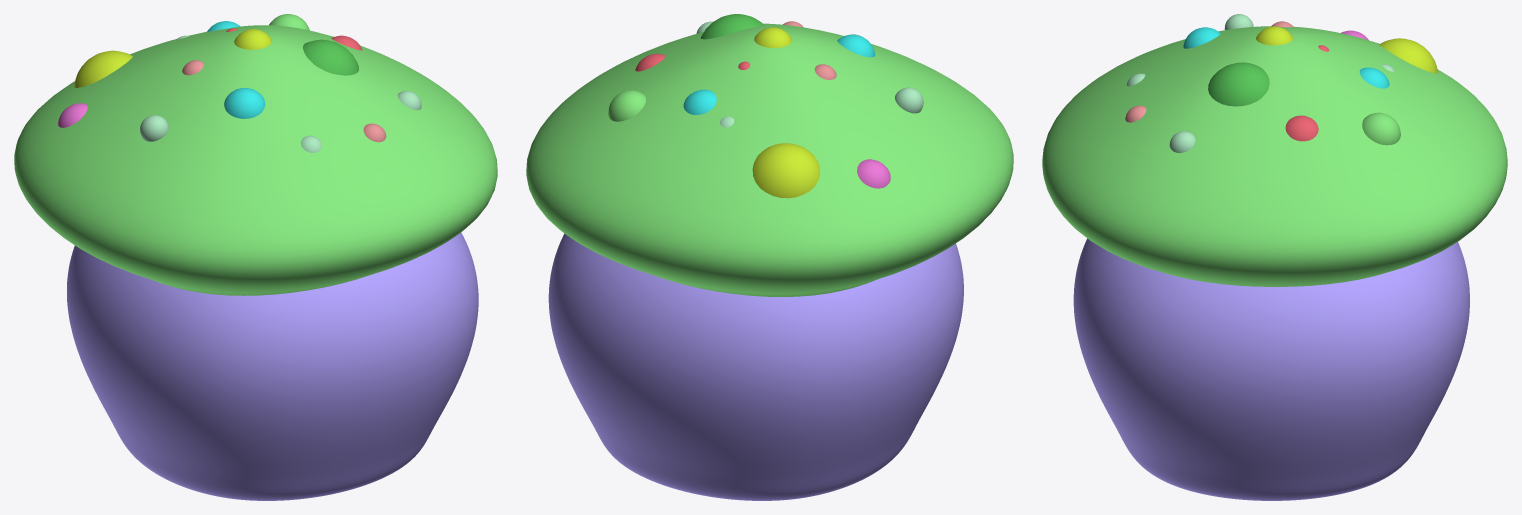
Rendered from mushroom.fbx.
3 renders of one model, left to right at view 1: azimuth 30°, elevation 25°; view 2: azimuth 150°, elevation 25°; view 3: azimuth 270°, elevation 25°, orthographic. The views are drawn at different scales.
Parts seen in each view (by area): view 1: Cube.001, Cube, Sphere.004, Sphere.003, Sphere.002, Sphere.010, Sphere.013; view 2: Cube.001, Cube, Sphere.003, Sphere.004, Sphere, Sphere.006, Sphere.014, Sphere.013, Sphere.010, Sphere.002; view 3: Cube.001, Cube, Sphere.004, Sphere.003, Sphere, Sphere.005, Sphere.013, Sphere.002.
Boxes of the visible parts, box(x1,y1,x2,y2) form: Cube.001: box(14, 25, 497, 295); Cube: box(67, 232, 478, 500); Sphere.004: box(303, 39, 358, 75); Sphere.003: box(74, 50, 132, 87); Sphere.002: box(224, 88, 265, 118); Sphere.010: box(140, 115, 168, 141); Sphere.013: box(234, 29, 271, 49); Cube.001: box(526, 23, 1013, 296); Cube: box(548, 233, 963, 500); Sphere.003: box(752, 143, 820, 198); Sphere.004: box(701, 14, 763, 39); Sphere: box(608, 90, 645, 121); Sphere.006: box(857, 159, 890, 188); Sphere.014: box(683, 89, 716, 114); Sphere.013: box(754, 27, 792, 47); Sphere.010: box(895, 87, 923, 113); Sphere.002: box(837, 34, 875, 57); Cube.001: box(1042, 26, 1507, 286); Cube: box(1073, 238, 1469, 500); Sphere.004: box(1208, 62, 1269, 106); Sphere.003: box(1379, 38, 1437, 73); Sphere: box(1362, 112, 1400, 145); Sphere.005: box(1285, 115, 1318, 141); Sphere.013: box(1256, 26, 1293, 45); Sphere.002: box(1183, 27, 1220, 48).
Bounding box in the file's own units: 470 × 464 × 470.
